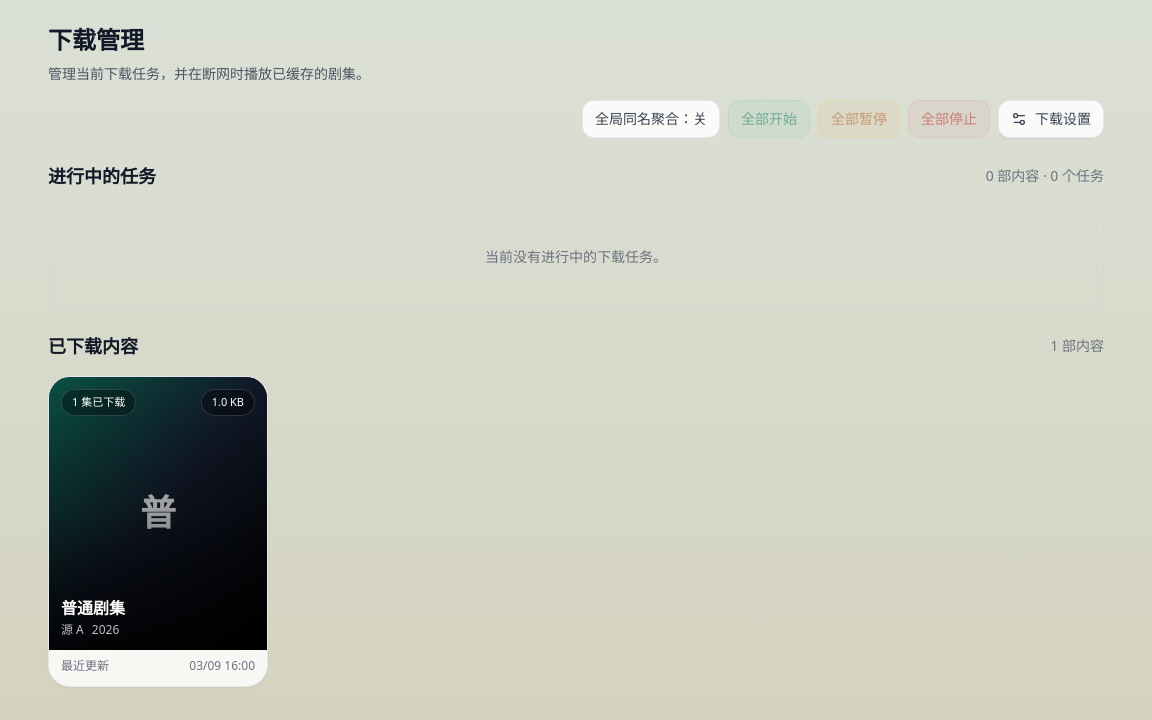
Scenario: DownloadedContentDialog › moves the adult filtering notice into download settings
The image size is (1152, 720).
Expected: the text "成人内容过滤已开启，下载管理中已暂时隐藏 1 部离线成人资源。" is not shown
Expected: the button with aria-label "查看 普通剧集 的离线资源详情" is shown, top-left (48, 376), bottom-right (268, 686)
Click the button "下载设置".
click(1051, 119)  # box top-left (998, 100), bottom-right (1104, 138)
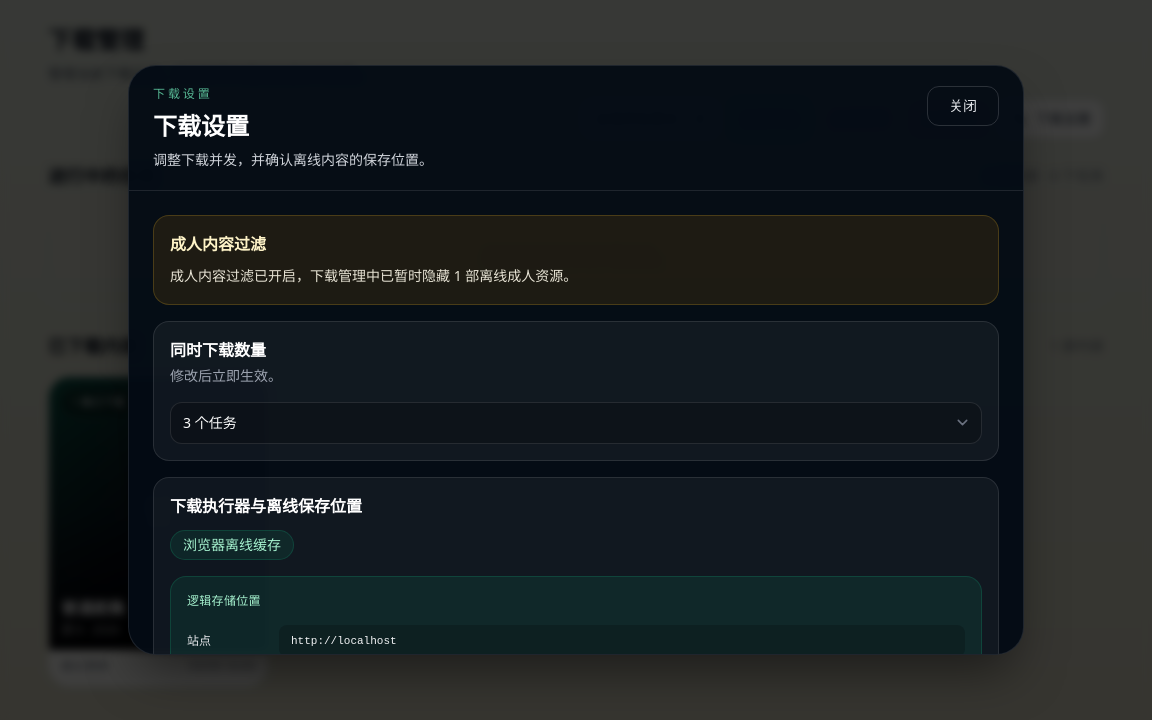
Result: the text "成人内容过滤已开启，下载管理中已暂时隐藏 1 部离线成人资源。" is shown at top-left (170, 266), bottom-right (577, 285)
